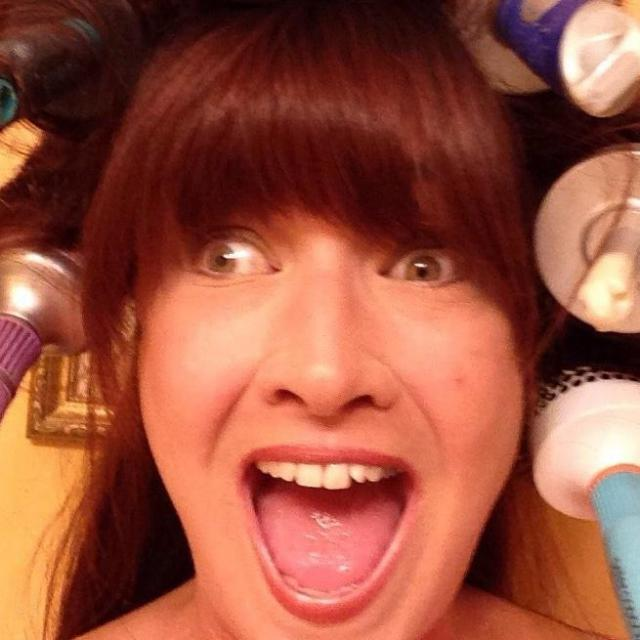surprised: (121, 96, 532, 622)
